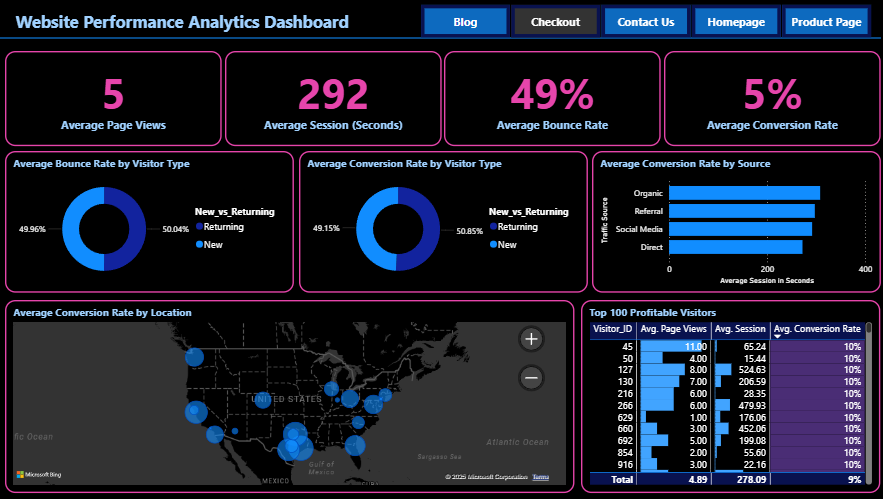

Layout of this report page (visuals, bound fields, positions):
{"tool":"powerbi","page":{"name":"Page 1","canvas":[1280,720],"ordinal":0},"visuals":[{"type":"shape","box":[0,0,1271.5,109.4],"z":0,"group":"g1"},{"type":"textbox","box":[20,8.8,497.5,52.5],"z":1000,"group":"g1"},{"type":"donutChart","title":"Average Bounce Rate by Visitor Type","fields":{"Category":["website_performance_analytics.New_vs_Returning"],"Y":["Avg(website_performance_analytics.Bounce_Rate)"]},"box":[10,217.8,415.6,204.4],"z":2000,"group":"g1"},{"type":"card","title":"Total ","fields":{"Values":["Avg(website_performance_analytics.Page_Views)"]},"box":[10,73.3,312.2,136.7],"z":3000,"group":"g1"},{"type":"card","title":"Total ","fields":{"Values":["Avg(website_performance_analytics.Average_Session_Duration)"]},"box":[326.3,73.3,312.2,136.7],"z":4000,"group":"g1"},{"type":"card","title":"Total ","fields":{"Values":["Avg(website_performance_analytics.Bounce_Rate)"]},"box":[642.6,73.3,312.2,136.7],"z":5000,"group":"g1"},{"type":"card","title":"Total ","fields":{"Values":["Avg(website_performance_analytics.Conversion_Rate)"]},"box":[958.9,73.3,312.2,136.7],"z":6000,"group":"g1"},{"type":"donutChart","title":"Average Conversion Rate by Visitor Type","fields":{"Category":["website_performance_analytics.New_vs_Returning"],"Y":["Avg(website_performance_analytics.Conversion_Rate)"]},"box":[432.8,217.8,415.6,204.4],"z":7000,"group":"g1"},{"type":"clusteredBarChart","title":"Average Conversion Rate by Source","fields":{"Y":["Avg(website_performance_analytics.Average_Session_Duration)"],"Category":["website_performance_analytics.Traffic_Source"]},"box":[855.6,217.8,415.6,204.4],"z":8000,"group":"g1"},{"type":"map","title":"Average Conversion Rate by Location","fields":{"Category":["website_performance_analytics.Location"],"Size":["Avg(website_performance_analytics.Conversion_Rate)"]},"box":[10,432.2,820,277.8],"z":9000,"group":"g1"},{"type":"tableEx","title":"Top 100 Profitable Visitors","fields":{"Values":["website_performance_analytics.Visitor_ID","Avg(website_performance_analytics.Page_Views)","Avg(website_performance_analytics.Session_Duration)","Avg(website_performance_analytics.Conversion_Rate)"]},"box":[840,432.2,431.1,277.8],"z":10000,"group":"g1"},{"type":"slicer","title":"Filter by Visitors'' Exit Page","fields":{"Values":["website_performance_analytics.Exit_Pages"]},"box":[582.5,0,697.5,61.2],"z":11000,"group":"g1"},{"type":"group","id":"g1","title":"Group 1","box":[0,0,1280,710],"z":11001}]}

Visuals, with their boxes in screenshot pixels (x1, y1, x2, y2), scaled from the page's 1280x720 canvas onto the 883x499 screenshot:
shape: {"x1": 0, "y1": 0, "x2": 877, "y2": 76}
textbox: {"x1": 14, "y1": 6, "x2": 357, "y2": 42}
"Average Bounce Rate by Visitor Type" donutChart: {"x1": 7, "y1": 151, "x2": 294, "y2": 293}
"Total " card: {"x1": 7, "y1": 51, "x2": 222, "y2": 146}
"Total " card: {"x1": 225, "y1": 51, "x2": 440, "y2": 146}
"Total " card: {"x1": 443, "y1": 51, "x2": 659, "y2": 146}
"Total " card: {"x1": 661, "y1": 51, "x2": 877, "y2": 146}
"Average Conversion Rate by Visitor Type" donutChart: {"x1": 299, "y1": 151, "x2": 585, "y2": 293}
"Average Conversion Rate by Source" clusteredBarChart: {"x1": 590, "y1": 151, "x2": 877, "y2": 293}
"Average Conversion Rate by Location" map: {"x1": 7, "y1": 300, "x2": 573, "y2": 492}
"Top 100 Profitable Visitors" tableEx: {"x1": 579, "y1": 300, "x2": 877, "y2": 492}
"Filter by Visitors'' Exit Page" slicer: {"x1": 402, "y1": 0, "x2": 882, "y2": 42}
"Group 1" group: {"x1": 0, "y1": 0, "x2": 882, "y2": 492}
